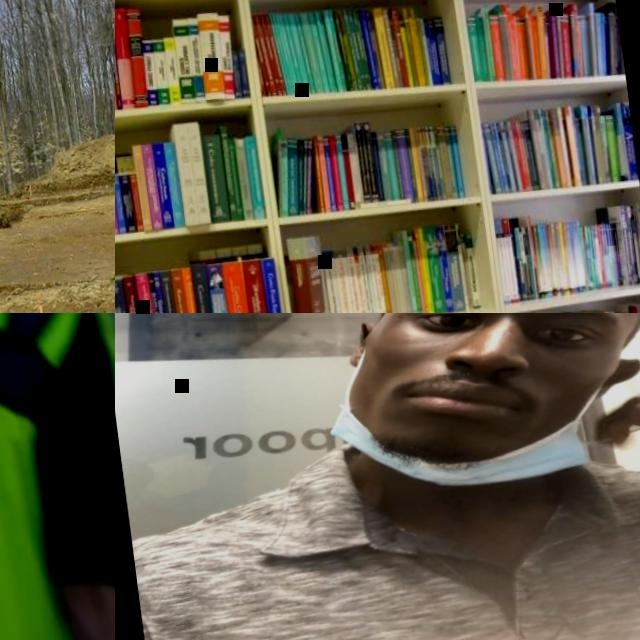NO-Mask: (345, 321, 625, 472)
NO-Safety Vest: (146, 419, 640, 640)
Person: (115, 313, 640, 640), (0, 313, 115, 640)
Safety Vest: (0, 313, 115, 640)
